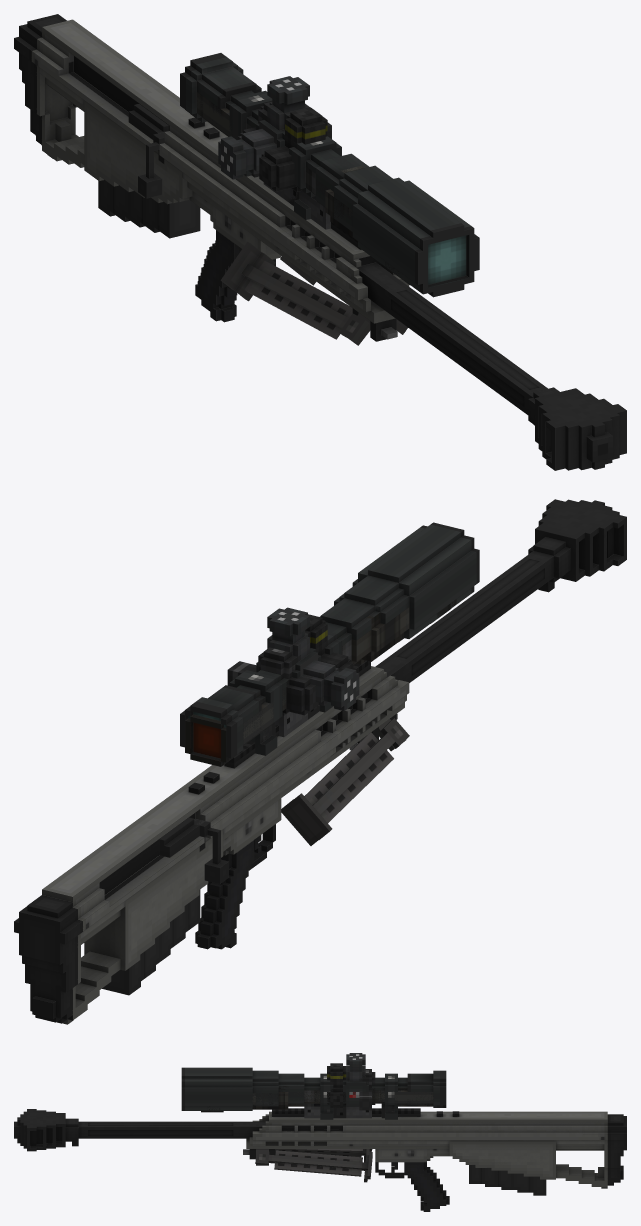
File: RD_BARRETT_M95.glb
The picture shows the model from 3 angles, top to bottom: view 1: azimuth 30°, elevation 25°; view 2: azimuth 150°, elevation 25°; view 3: azimuth 270°, elevation 25°; orthographic projection. The views are drawn at different scales.
Parts seen in each view (by area): view 1: BARRETT_M95, SCOPE_LEUPOLD_ULTRA, BARRETT_M95_DIPOD_LEG1, SCOPE_LEUPOLD, BARRETT_M95_CLIP, SCOPE_NIGHTFORCE, BARRETT_M95_BOLT_P2, BARRETT_M95_BOLT_P1; view 2: BARRETT_M95, SCOPE_LEUPOLD_ULTRA, SCOPE_NIGHTFORCE, BARRETT_M95_DIPOD_LEG1, SCOPE_LEUPOLD, BARRETT_M95_CLIP, BARRETT_M95_BOLT_P2, BARRETT_M95_BOLT_P1; view 3: BARRETT_M95, SCOPE_LEUPOLD_ULTRA, SCOPE_LEUPOLD, BARRETT_M95_DIPOD_LEG2, SCOPE_NIGHTFORCE, BARRETT_M95_CLIP, BARRETT_M95_DIPOD_LEG1.
Part boxes in pixels (<box>): BARRETT_M95: <box>14,14,626,470</box>; SCOPE_LEUPOLD_ULTRA: <box>180,53,479,297</box>; BARRETT_M95_DIPOD_LEG1: <box>220,241,368,342</box>; SCOPE_LEUPOLD: <box>190,93,403,280</box>; BARRETT_M95_CLIP: <box>98,180,200,238</box>; SCOPE_NIGHTFORCE: <box>191,92,410,285</box>; BARRETT_M95_BOLT_P2: <box>138,131,168,198</box>; BARRETT_M95_BOLT_P1: <box>128,104,168,139</box>; BARRETT_M95: <box>14,499,626,1024</box>; SCOPE_LEUPOLD_ULTRA: <box>180,522,479,764</box>; SCOPE_NIGHTFORCE: <box>185,599,456,766</box>; BARRETT_M95_DIPOD_LEG1: <box>281,718,409,845</box>; SCOPE_LEUPOLD: <box>190,603,450,766</box>; BARRETT_M95_CLIP: <box>102,889,200,995</box>; BARRETT_M95_BOLT_P2: <box>194,818,228,883</box>; BARRETT_M95_BOLT_P1: <box>159,817,204,857</box>; BARRETT_M95: <box>14,1108,626,1211</box>; SCOPE_LEUPOLD_ULTRA: <box>181,1053,446,1119</box>; SCOPE_LEUPOLD: <box>207,1063,446,1118</box>; BARRETT_M95_DIPOD_LEG2: <box>255,1150,372,1182</box>; SCOPE_NIGHTFORCE: <box>201,1069,443,1118</box>; BARRETT_M95_CLIP: <box>469,1165,546,1195</box>; BARRETT_M95_DIPOD_LEG1: <box>275,1149,372,1162</box>.
Bounding box in the file's own units: 0.223 × 0.5118 × 1.87.
Materials: 4 (4 with a texture image).
